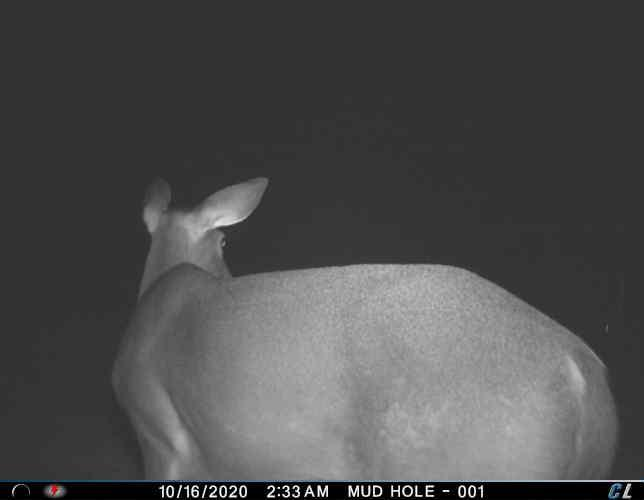Deer: (109, 170, 623, 484)
